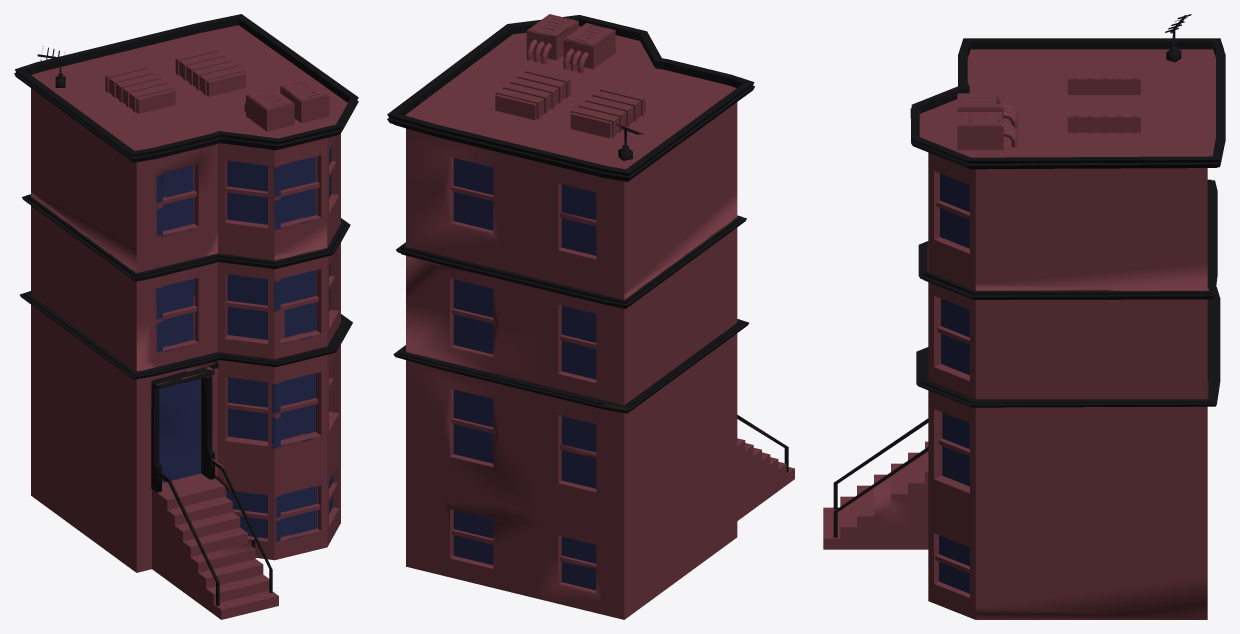
File: corner house thing.fbx
3 views of the same model, side by side, from view 1: azimuth 30°, elevation 25°; view 2: azimuth 150°, elevation 25°; view 3: azimuth 270°, elevation 25° (orthographic). The views are drawn at different scales.
Visible parts, largest first — view 1: Corner_Building; view 2: Corner_Building; view 3: Corner_Building.
Part boxes in pixels (left/top/right/bottom): Corner_Building: left=14, top=14, right=358, bottom=619; Corner_Building: left=387, top=14, right=794, bottom=619; Corner_Building: left=823, top=14, right=1225, bottom=619.
Bounding box in the file's own units: 468 × 884 × 646.
